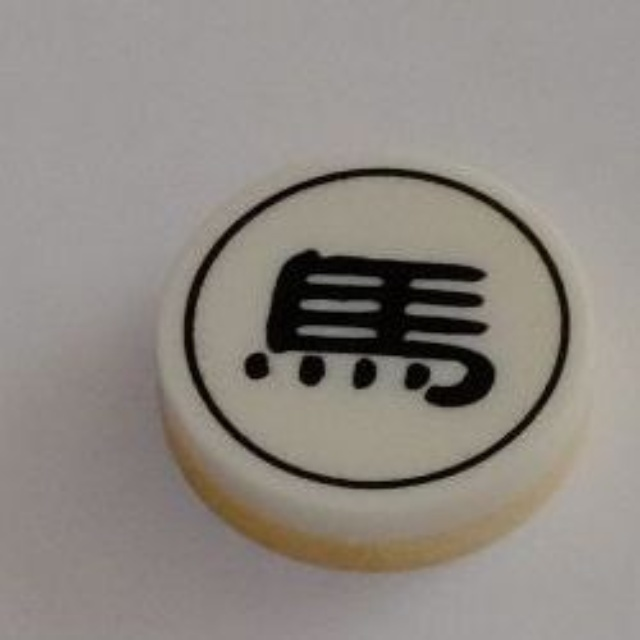black_ma: (155, 142, 604, 580)
